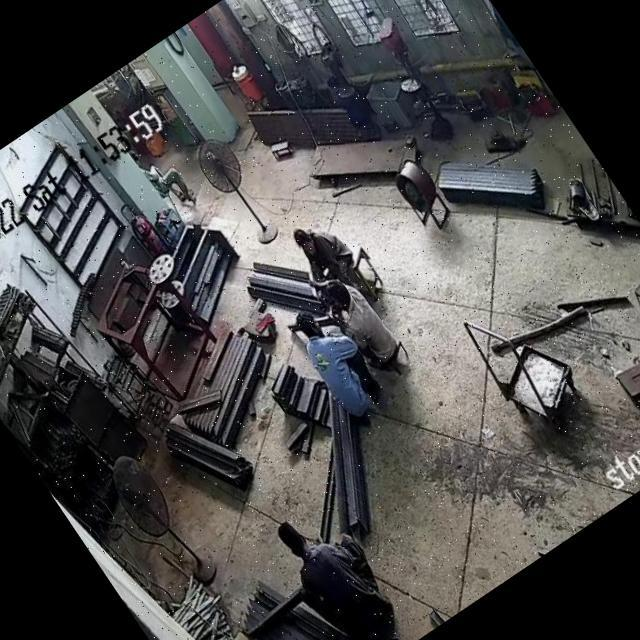person: (261, 495, 412, 640), (284, 300, 395, 430), (280, 209, 380, 324), (316, 268, 406, 372), (126, 133, 202, 222)
